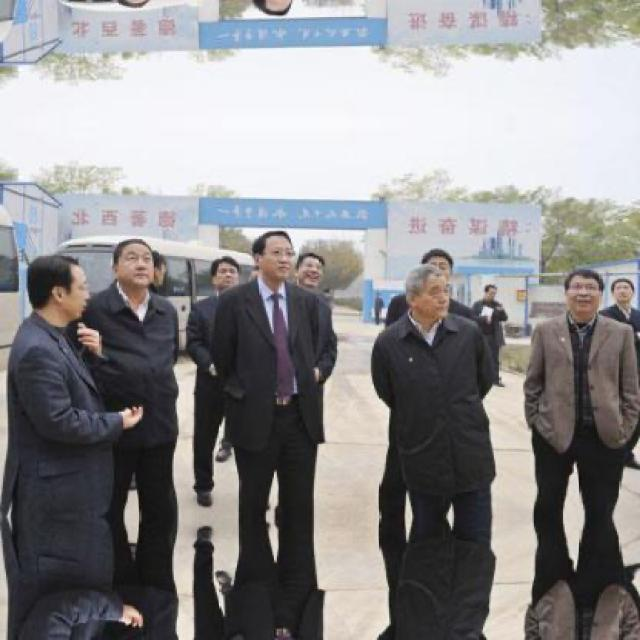sin casco: (82, 230, 189, 326), (396, 253, 489, 337), (11, 246, 86, 337), (243, 213, 326, 293), (568, 253, 612, 313)
